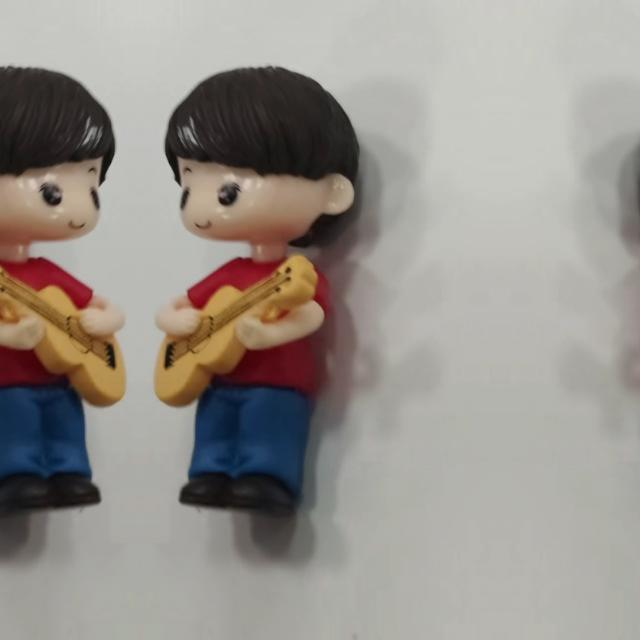man cloth: (154, 254, 338, 398), (0, 254, 126, 398)
man head: (156, 61, 364, 252), (0, 61, 124, 252), (635, 61, 640, 252)
trousers: (169, 378, 317, 526), (0, 378, 111, 526)
